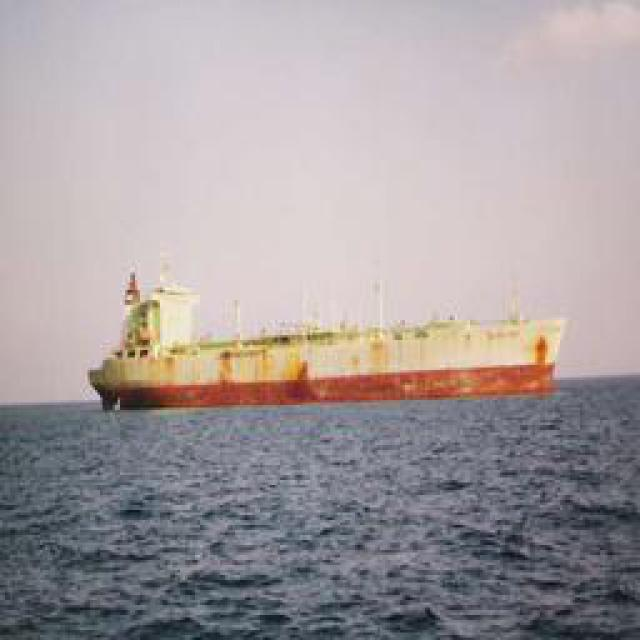Ship: (88, 301, 566, 409)
